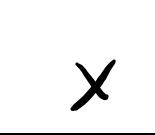minus: (71, 58, 115, 111)
